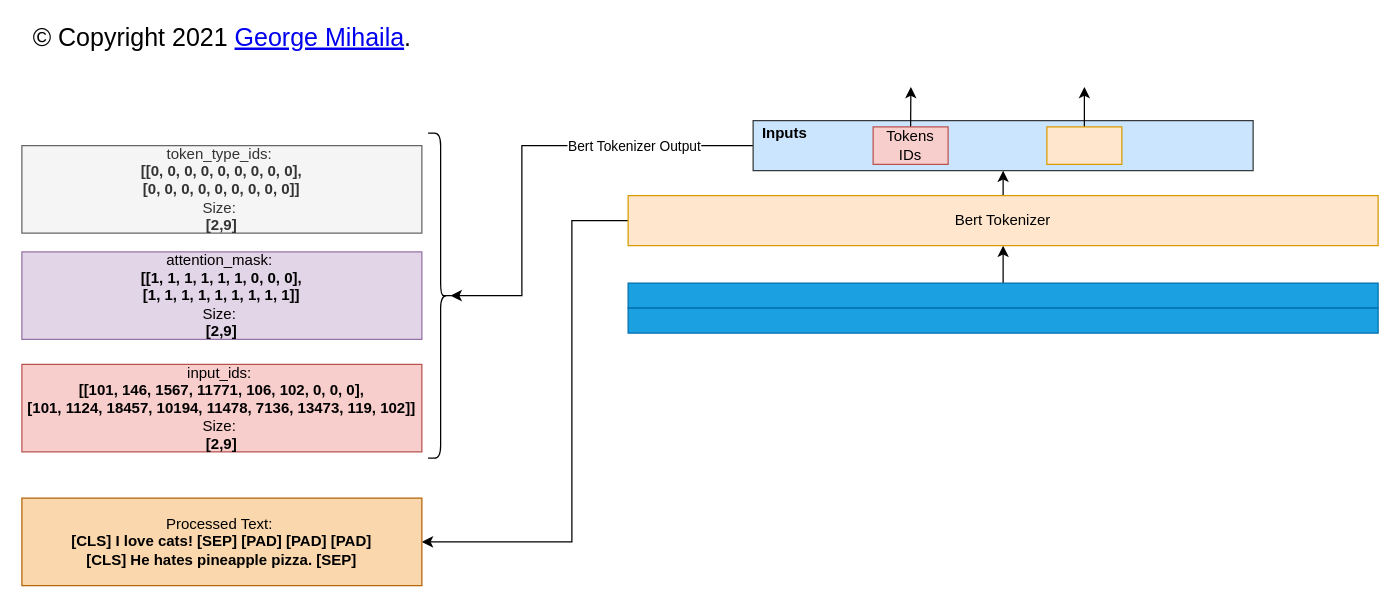
Image size: 1400x608. Some labels were removed from this diagram. The shapes that lost their labels are listed below. From the top down, each one's centre as x and y in pixels, then its label:
pixel 1084 145: Tokens Types IDs
pixel 1002 295: I love cats!
pixel 1002 320: He hates pineapple pizza.
